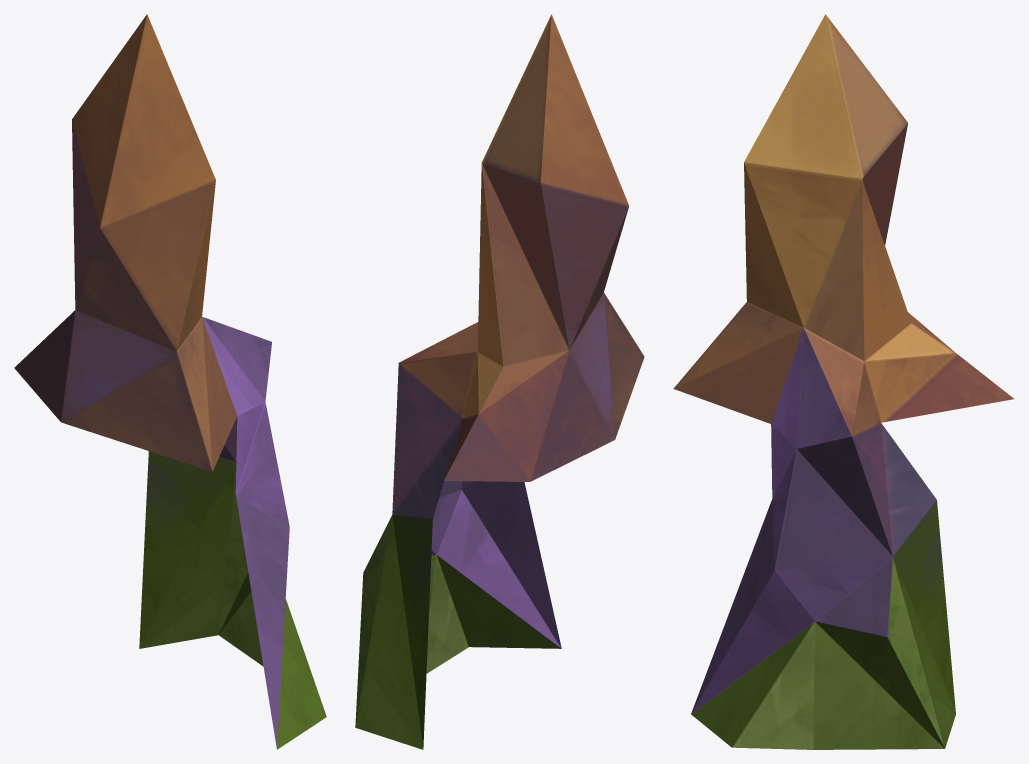
File: wall_crys_deco_B.fbx
3 renders of one model, left to right at view 1: azimuth 30°, elevation 25°; view 2: azimuth 150°, elevation 25°; view 3: azimuth 270°, elevation 25°, orthographic. The views are drawn at different scales.
Visible parts, largest first — view 1: wall_crys_deco_B; view 2: wall_crys_deco_B; view 3: wall_crys_deco_B.
Boxes of the visible parts, left/top/right/bottom form: wall_crys_deco_B: left=14, top=14, right=326, bottom=749; wall_crys_deco_B: left=355, top=14, right=644, bottom=749; wall_crys_deco_B: left=673, top=14, right=1013, bottom=749.
Bounding box in the file's own units: 1.58 × 4.57 × 2.1.
